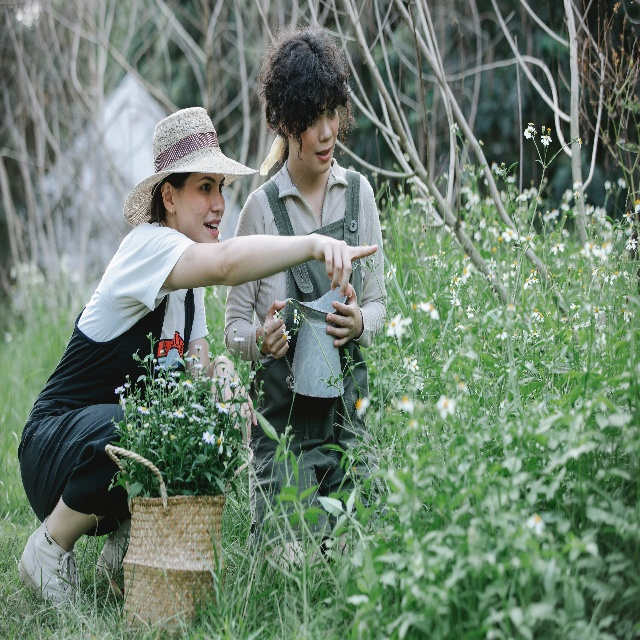Sin_guantes: (311, 232, 379, 298), (211, 361, 258, 447), (325, 282, 359, 347), (263, 298, 289, 360)
